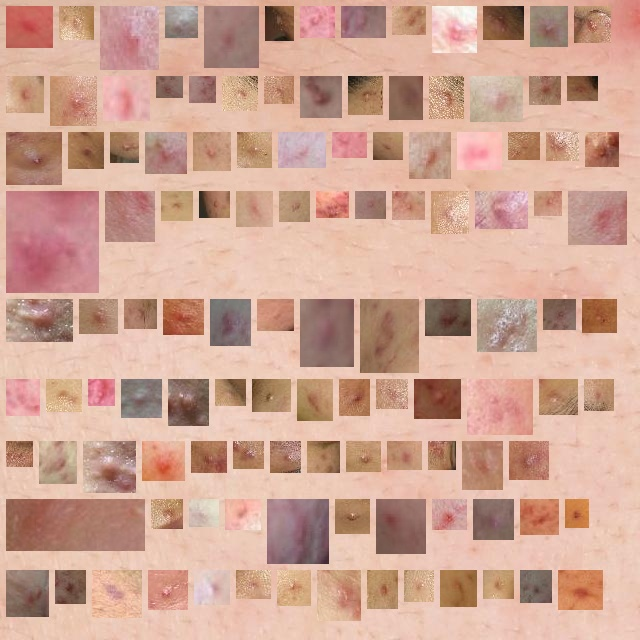papule: (14, 199, 91, 285), (14, 507, 137, 543), (368, 307, 411, 365), (275, 507, 321, 556), (108, 14, 151, 62), (308, 307, 347, 359), (475, 387, 525, 427), (212, 14, 251, 60), (576, 199, 619, 237), (485, 307, 529, 344), (14, 140, 54, 177), (14, 307, 65, 334), (91, 449, 128, 485), (384, 507, 418, 546), (113, 199, 147, 234), (111, 84, 142, 121), (478, 84, 515, 114), (100, 578, 134, 610), (58, 84, 89, 118), (14, 578, 48, 609), (325, 578, 353, 613), (440, 14, 469, 45), (483, 199, 520, 222), (470, 449, 495, 482), (14, 14, 45, 40), (417, 140, 443, 171), (218, 307, 243, 338), (176, 387, 201, 418), (422, 387, 453, 411), (566, 578, 595, 602), (308, 84, 334, 110), (153, 140, 179, 166), (150, 449, 177, 473), (286, 140, 318, 160), (465, 140, 494, 162), (433, 307, 463, 328), (481, 507, 506, 532), (439, 199, 461, 226), (47, 449, 69, 476), (156, 578, 180, 602), (129, 387, 154, 410), (517, 449, 541, 472), (538, 14, 560, 39), (305, 387, 325, 413), (437, 84, 456, 111), (201, 140, 223, 163), (397, 84, 415, 112), (171, 307, 196, 327), (349, 14, 378, 30), (14, 84, 36, 105), (547, 387, 570, 407), (528, 507, 551, 527), (491, 14, 516, 32), (582, 14, 603, 35), (448, 578, 469, 599), (356, 84, 375, 107), (87, 307, 110, 326), (76, 140, 96, 161), (244, 199, 265, 219), (260, 387, 283, 404), (230, 84, 250, 103), (245, 140, 264, 160), (202, 578, 222, 597), (14, 387, 32, 408), (343, 507, 362, 526), (285, 578, 303, 598), (375, 578, 390, 601), (67, 14, 86, 32), (593, 140, 611, 159), (590, 307, 609, 325), (54, 387, 74, 404), (265, 307, 286, 323), (199, 449, 219, 465), (347, 387, 362, 408), (308, 14, 327, 30), (233, 507, 253, 522), (354, 449, 373, 464), (440, 507, 459, 522), (173, 14, 190, 30), (315, 449, 332, 465), (528, 578, 544, 595), (63, 578, 78, 596), (551, 307, 568, 322), (273, 14, 286, 33), (395, 449, 414, 462), (244, 578, 263, 591), (278, 449, 293, 465), (132, 307, 149, 321), (400, 14, 418, 27), (287, 199, 302, 214), (169, 199, 185, 213), (384, 387, 400, 401), (592, 387, 606, 403), (159, 507, 175, 521), (412, 578, 426, 594), (554, 140, 571, 153), (400, 199, 417, 212), (537, 84, 553, 97), (118, 140, 131, 155), (491, 578, 506, 591), (516, 140, 532, 152), (340, 140, 359, 150), (324, 199, 341, 210), (363, 199, 378, 211), (241, 449, 256, 461), (272, 84, 286, 96), (381, 140, 395, 152), (197, 507, 211, 519), (575, 82, 590, 93), (207, 199, 222, 210), (223, 387, 238, 398), (436, 449, 448, 462), (197, 84, 208, 95), (96, 387, 107, 398), (14, 449, 25, 459), (542, 199, 554, 208), (573, 507, 581, 520), (164, 84, 175, 90)
